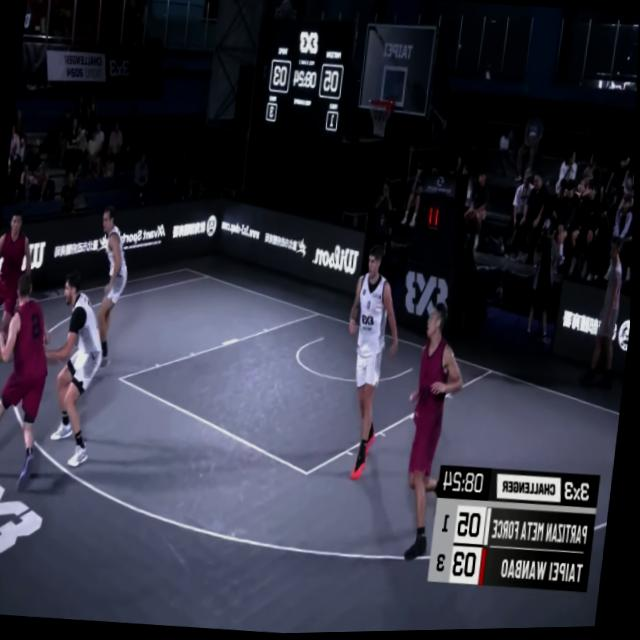ball: (0, 328, 13, 364)
hoop: (368, 94, 397, 140)
player: (394, 297, 475, 570), (335, 245, 411, 480), (33, 269, 116, 475), (0, 270, 61, 490), (89, 207, 139, 370), (0, 205, 44, 389)
